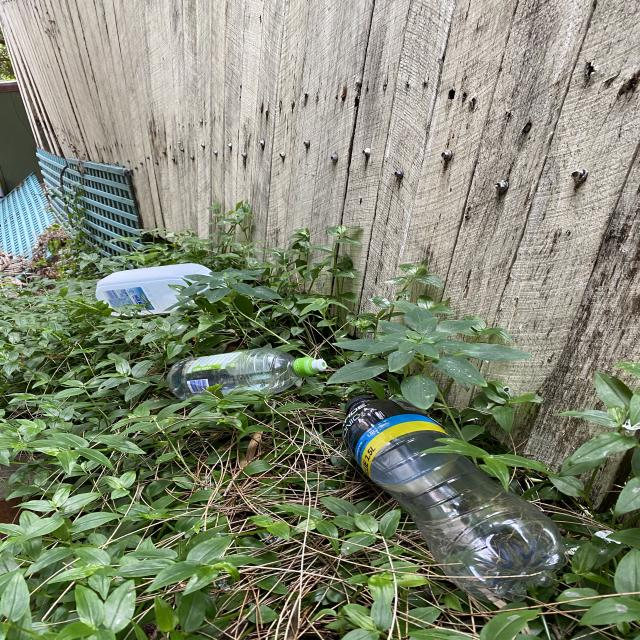bottle: (341, 394, 565, 606), (165, 344, 334, 397), (96, 264, 208, 318)
